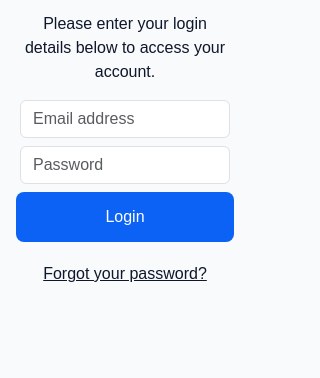
Scenario: UserLogin Component › handles forgot password flow successfully
This screenshot has width=320, height=378.
Type "forgot@domain.com" into the field with placeholder "Email address" at coordinates (125, 119), box top-left (20, 100), bottom-right (230, 138)
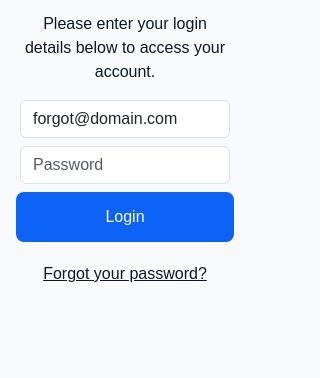
Click the button "Forgot your password?" at coordinates (125, 274), box top-left (38, 257), bottom-right (212, 291)
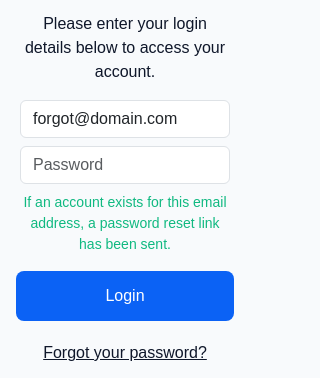
expect the text "If an account exists for this email address, a password reset link has been sent." is shown: met, box top-left (24, 194), bottom-right (227, 252)
